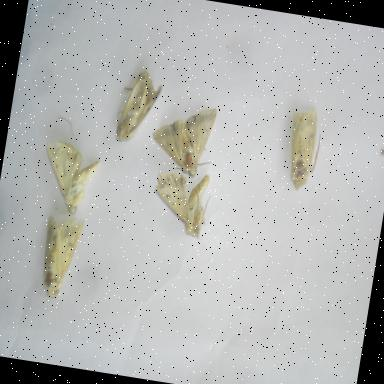abw: (144, 96, 224, 183), (30, 133, 107, 221), (144, 161, 220, 244), (32, 204, 90, 304), (109, 60, 168, 150), (277, 102, 329, 198)
